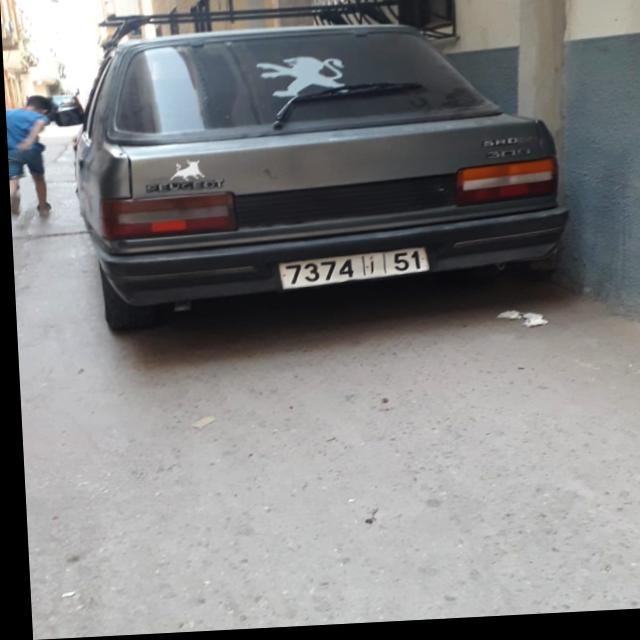License-Plate: (276, 253, 427, 292)
